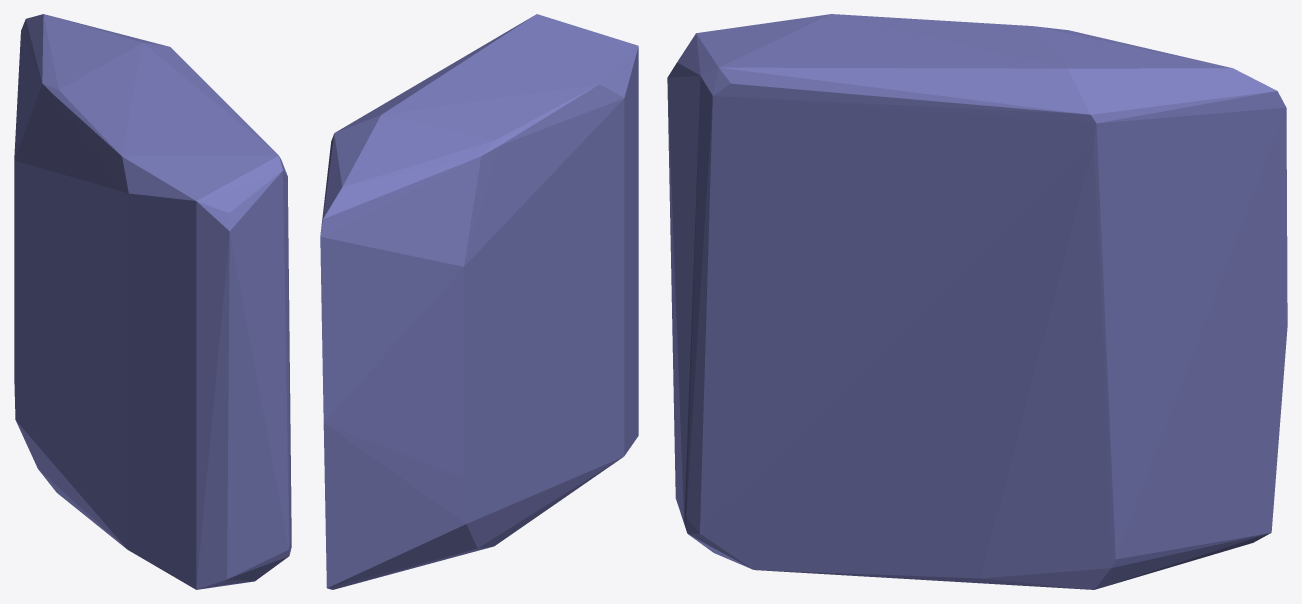
Rendered from monitor_a01.glb.
The picture shows the model from 3 angles, left to right: view 1: azimuth 30°, elevation 25°; view 2: azimuth 150°, elevation 25°; view 3: azimuth 270°, elevation 25°; orthographic projection. The views are drawn at different scales.
Parts seen in each view (by area): view 1: geometry_0; view 2: geometry_0; view 3: geometry_0.
Boxes of the visible parts, x1,y1,x2,y2 form: geometry_0: (14,14,291,589); geometry_0: (320,14,638,589); geometry_0: (667,14,1287,589).
Bounding box in the file's own units: 0.1782 × 0.4306 × 0.4791.
